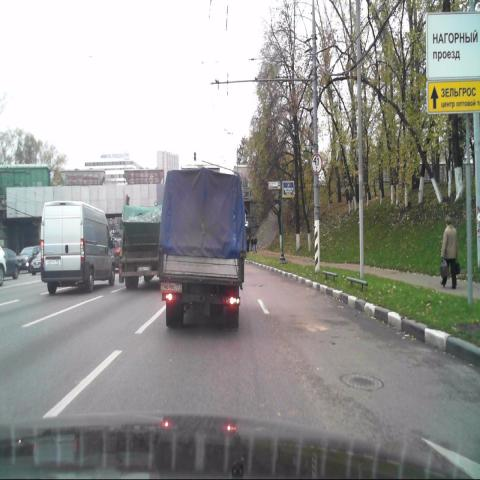3_13: (312, 153, 322, 174)
